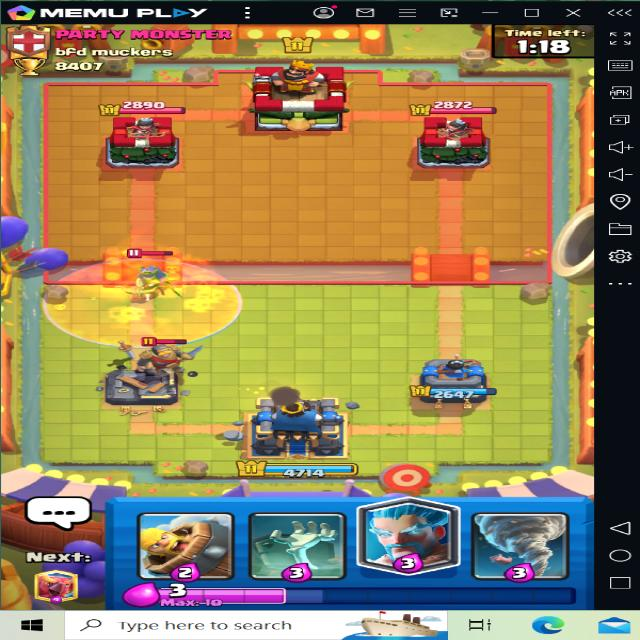archer-queen: (105, 243, 193, 302)
knight: (101, 327, 214, 389)
